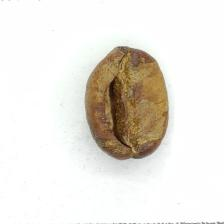NG: (101, 64, 158, 150)
